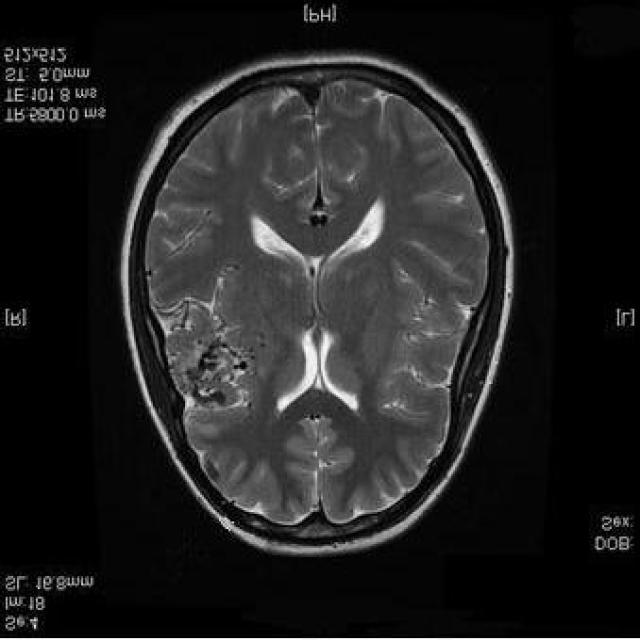notumor: (123, 53, 512, 555)
